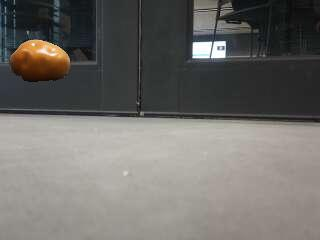Potato: (8, 38, 73, 84)
